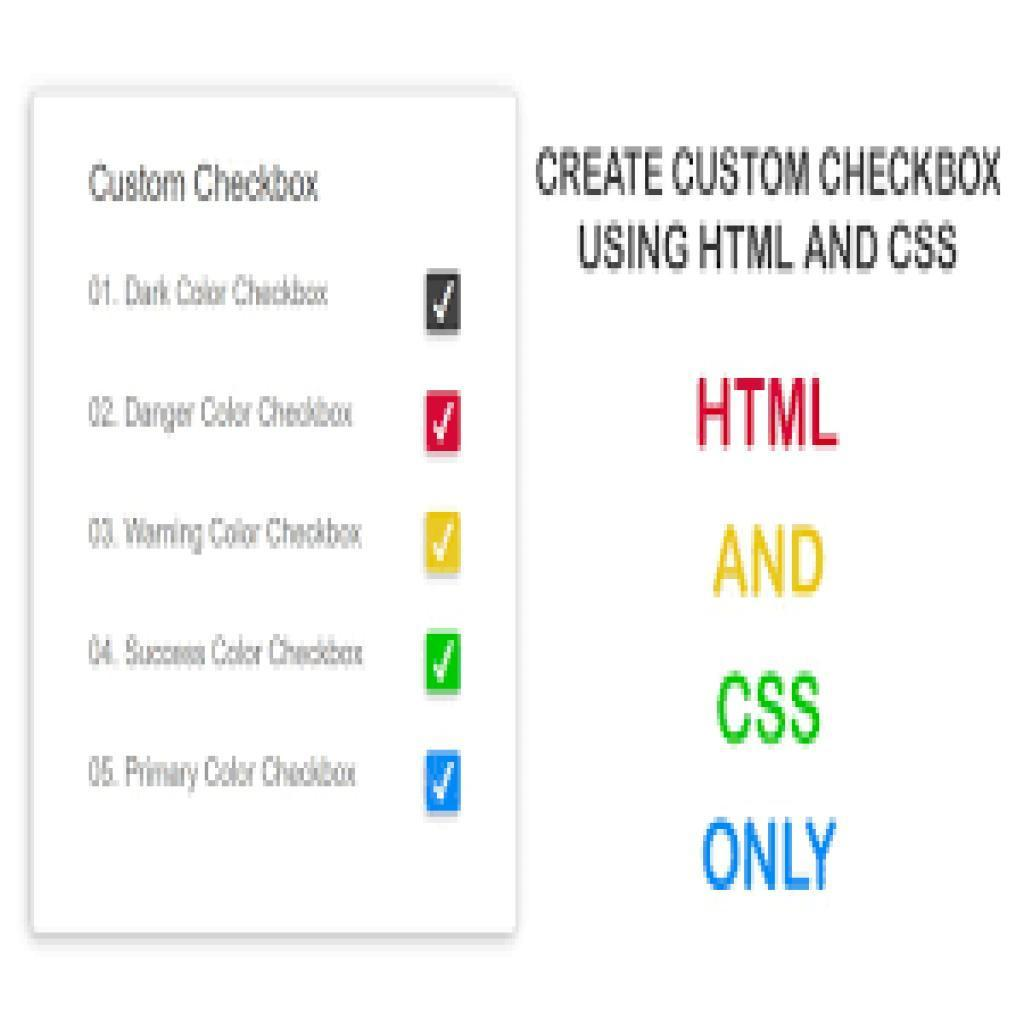checkbox: (425, 269, 464, 334), (426, 633, 464, 694), (426, 513, 460, 578), (427, 389, 460, 454), (427, 750, 460, 815)
label: (82, 749, 359, 798), (85, 387, 358, 434), (84, 633, 369, 678), (86, 517, 372, 559), (81, 160, 329, 208), (86, 272, 336, 317)
